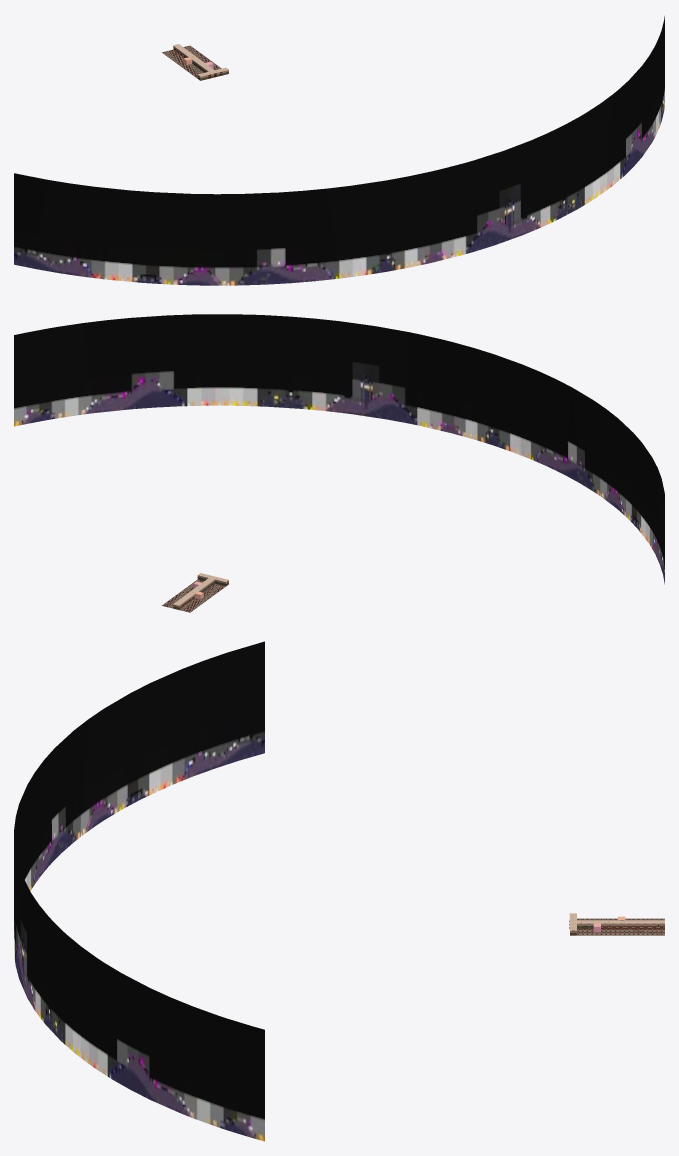
Rendered from goodboat-corridor-1.lod1.glb.
The picture shows the model from 3 angles, top to bottom: view 1: azimuth 30°, elevation 25°; view 2: azimuth 150°, elevation 25°; view 3: azimuth 270°, elevation 25°; orthographic projection. The views are drawn at different scales.
Parts seen in each view (by area): view 1: object 82, object 9; view 2: object 82, object 9; view 3: object 82, object 9.
Boxes of the visible parts, bbox=[...] form: object 82: bbox=[14, 16, 664, 285]; object 9: bbox=[162, 45, 221, 78]; object 82: bbox=[14, 314, 664, 584]; object 9: bbox=[162, 579, 225, 612]; object 82: bbox=[14, 641, 264, 1141]; object 9: bbox=[576, 918, 664, 935].
Size of the model in its own units: 387 by 51.98 by 274.
Materials: 106 (43 with a texture image).
